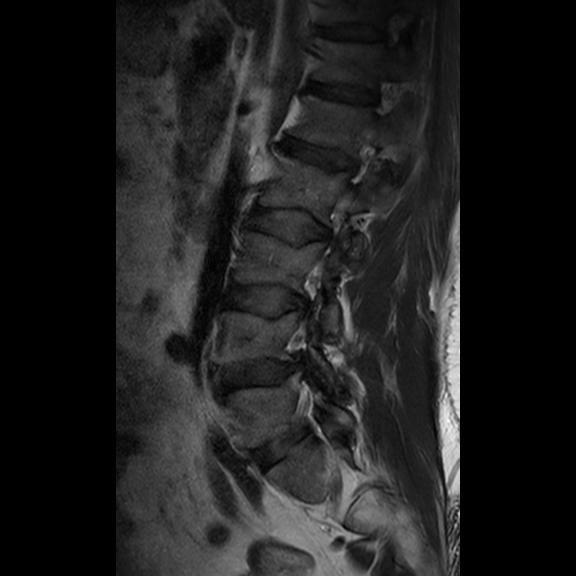RFS0: (342, 135, 378, 188)
